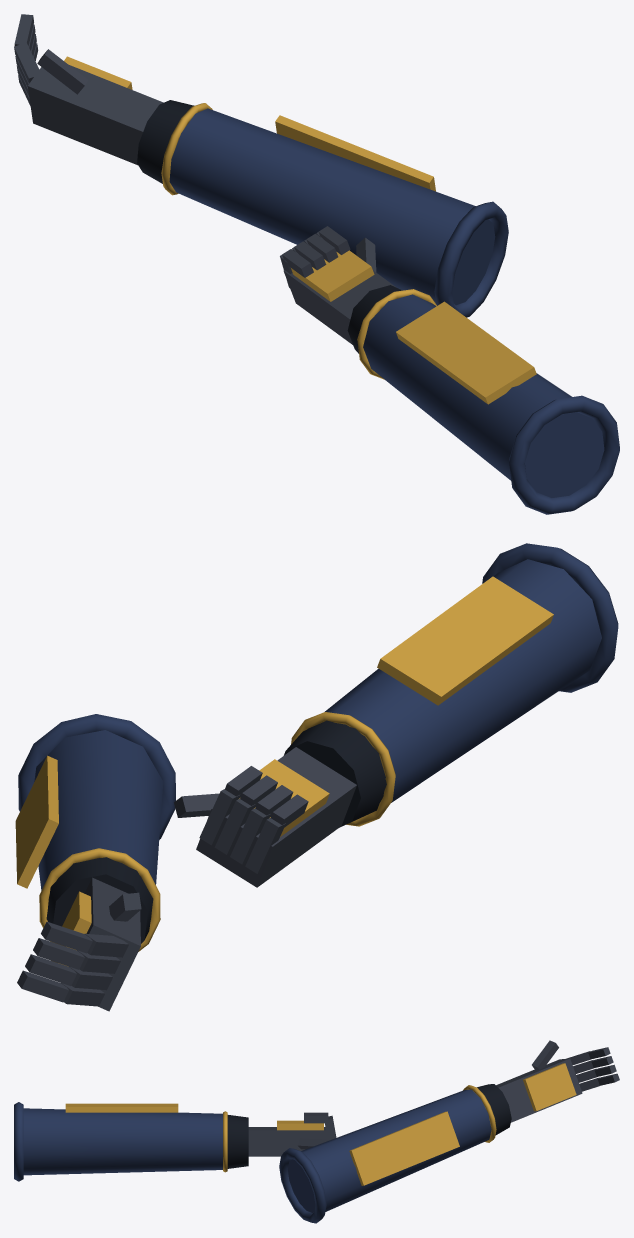
File: hands_firstperson.glb
3 views of the same model, one above another, from view 1: azimuth 30°, elevation 25°; view 2: azimuth 150°, elevation 25°; view 3: azimuth 270°, elevation 25° (orthographic). The views are drawn at different scales.
Parts seen in each view (by area): view 1: hand_l_forearm, hand_r_forearm, hand_l_palm, hand_r_forearm_plate, hand_r_sleeve_roll, hand_l_sleeve_roll, hand_l_forearm_plate, hand_r_palm, hand_l_cuff, hand_r_knuckle_plate, hand_r_cuff_strap, hand_l_thumb_a (+2 smaller); view 2: hand_r_forearm, hand_l_forearm, hand_r_forearm_plate, hand_r_palm, hand_r_cuff, hand_r_sleeve_roll, hand_l_sleeve_roll, hand_l_forearm_plate, hand_l_cuff, hand_l_palm, hand_l_cuff_strap, hand_r_cuff_strap (+17 smaller); view 3: hand_r_forearm, hand_l_forearm, hand_l_forearm_plate, hand_r_palm, hand_l_sleeve_roll, hand_l_knuckle_plate, hand_l_palm, hand_r_cuff, hand_r_forearm_plate, hand_l_cuff, hand_r_sleeve_roll, hand_r_knuckle_plate (+3 smaller).
Boxes of the visible parts, <box> form: hand_l_forearm: <box>169,108,495,305</box>; hand_r_forearm: <box>363,294,604,497</box>; hand_l_palm: <box>27,65,163,165</box>; hand_r_forearm_plate: <box>396,301,536,404</box>; hand_r_sleeve_roll: <box>509,395,619,514</box>; hand_l_sleeve_roll: <box>434,201,508,317</box>; hand_l_forearm_plate: <box>275,115,435,191</box>; hand_r_palm: <box>283,270,396,344</box>; hand_l_cuff: <box>137,100,194,183</box>; hand_r_knuckle_plate: <box>291,250,374,301</box>; hand_r_cuff_strap: <box>357,289,436,379</box>; hand_l_thumb_a: <box>37,49,87,94</box>; hand_r_forearm: <box>325,559,601,802</box>; hand_l_forearm: <box>34,730,163,890</box>; hand_r_forearm_plate: <box>377,576,553,705</box>; hand_r_palm: <box>196,747,356,887</box>; hand_r_cuff: <box>284,720,386,827</box>; hand_r_sleeve_roll: <box>482,543,618,692</box>; hand_l_sleeve_roll: <box>18,714,175,839</box>; hand_l_forearm_plate: <box>15,755,58,888</box>; hand_l_cuff: <box>46,857,153,943</box>; hand_l_palm: <box>84,877,140,1011</box>; hand_l_cuff_strap: <box>39,848,160,951</box>; hand_r_cuff_strap: <box>291,712,395,826</box>; hand_r_forearm: <box>23,1108,222,1175</box>; hand_l_forearm: <box>287,1089,491,1212</box>; hand_l_forearm_plate: <box>349,1111,459,1185</box>; hand_r_palm: <box>248,1127,333,1156</box>; hand_l_sleeve_roll: <box>279,1148,326,1223</box>; hand_l_knuckle_plate: <box>523,1063,576,1111</box>; hand_l_palm: <box>496,1058,582,1122</box>; hand_r_cuff: <box>227,1115,248,1168</box>; hand_r_forearm_plate: <box>65,1103,178,1112</box>; hand_l_cuff: <box>477,1084,511,1135</box>; hand_r_sleeve_roll: <box>14,1102,23,1181</box>; hand_r_knuckle_plate: <box>277,1120,323,1130</box>.
Bounding box in the file's own units: 0.2218 × 0.1311 × 0.6456.
